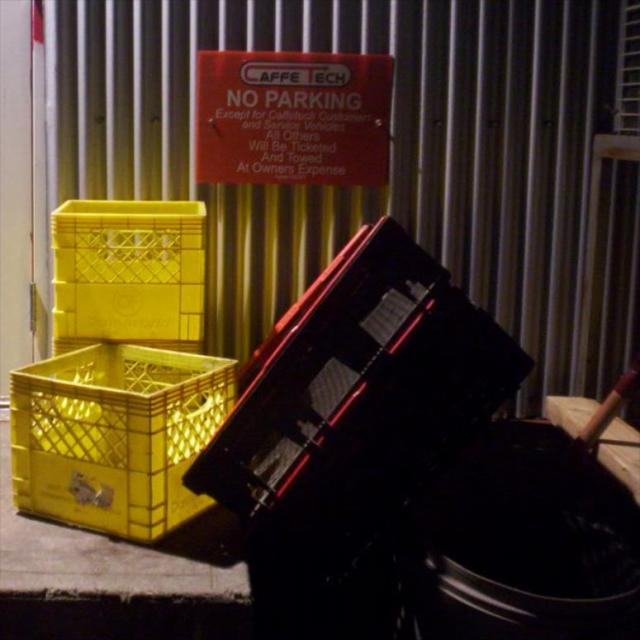Box: (0, 326, 247, 540)
